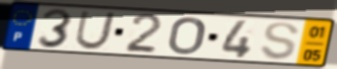2: (124, 12, 164, 55)
3: (36, 7, 75, 50)
4: (220, 19, 253, 59)
O: (166, 16, 208, 56)
S: (259, 21, 302, 62)
U: (72, 10, 118, 52)
